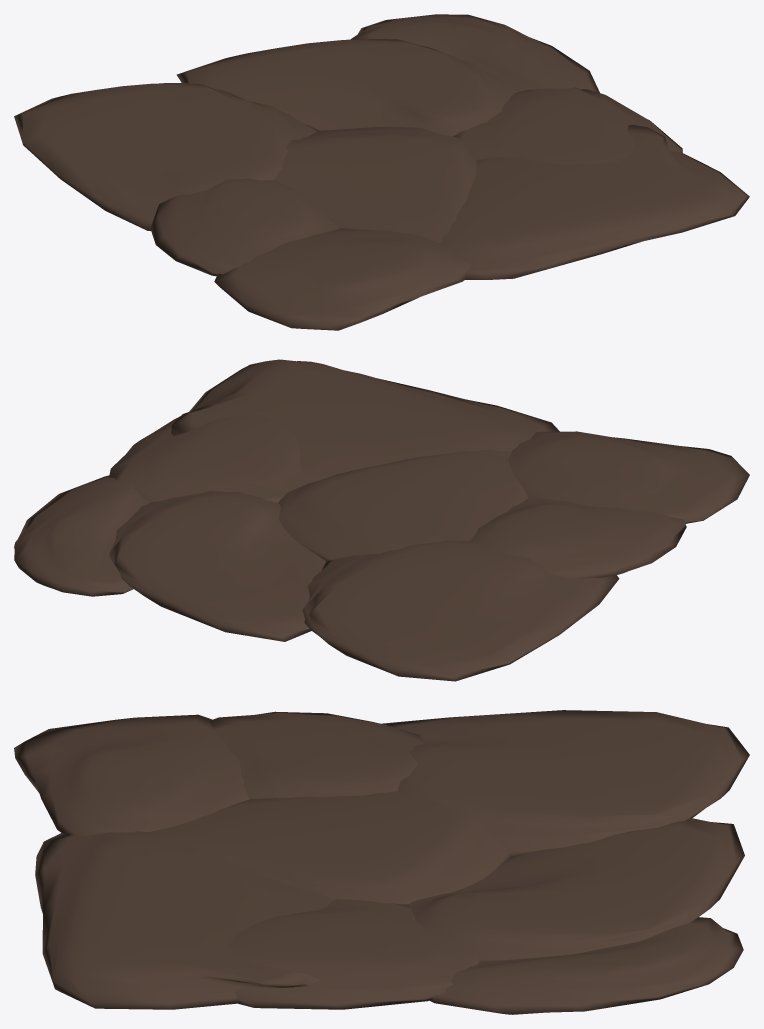
The model's file is ceiling.fbx.
The picture shows the model from 3 angles, top to bottom: view 1: azimuth 30°, elevation 25°; view 2: azimuth 150°, elevation 25°; view 3: azimuth 270°, elevation 25°; orthographic projection. The views are drawn at different scales.
Visible parts, largest first — view 1: stal.057, stal.053, stal.054, stal.050, stal.052, stal.051, stal.056, stal.055; view 2: stal.053, stal.057, stal.054, stal.052, stal.050, stal.056, stal.051, stal.055; view 3: stal.057, stal.053, stal.054, stal.052, stal.050, stal.056, stal.055, stal.051.
Part boxes in pixels (left/top/right/bottom): stal.057: left=440, top=125, right=749, bottom=279; stal.053: left=14, top=83, right=319, bottom=230; stal.054: left=176, top=39, right=517, bottom=136; stal.050: left=214, top=228, right=469, bottom=330; stal.052: left=274, top=127, right=476, bottom=243; stal.051: left=150, top=178, right=340, bottom=276; stal.056: left=453, top=87, right=682, bottom=164; stal.055: left=350, top=14, right=599, bottom=92; stal.053: left=302, top=540, right=619, bottom=681; stal.057: left=171, top=359, right=559, bottom=481; stal.054: left=109, top=491, right=326, bottom=641; stal.052: left=278, top=449, right=528, bottom=561; stal.050: left=508, top=431, right=749, bottom=523; stal.056: left=109, top=414, right=315, bottom=502; stal.051: left=470, top=498, right=686, bottom=578; stal.055: left=14, top=475, right=150, bottom=596; stal.057: left=35, top=831, right=335, bottom=1009; stal.053: left=381, top=710, right=749, bottom=856; stal.054: left=409, top=818, right=744, bottom=960; stal.052: left=150, top=791, right=510, bottom=904; stal.050: left=14, top=714, right=249, bottom=835; stal.056: left=227, top=899, right=480, bottom=1009; stal.055: left=430, top=917, right=743, bottom=1014; stal.051: left=209, top=711, right=422, bottom=799.
Bounding box in the file's own units: 6.28 × 0.1995 × 6.53.
